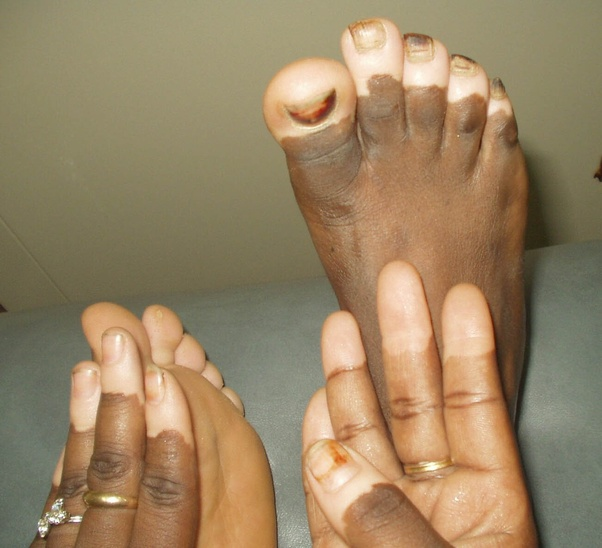vitiligo: (276, 40, 505, 183), (52, 348, 189, 526)
